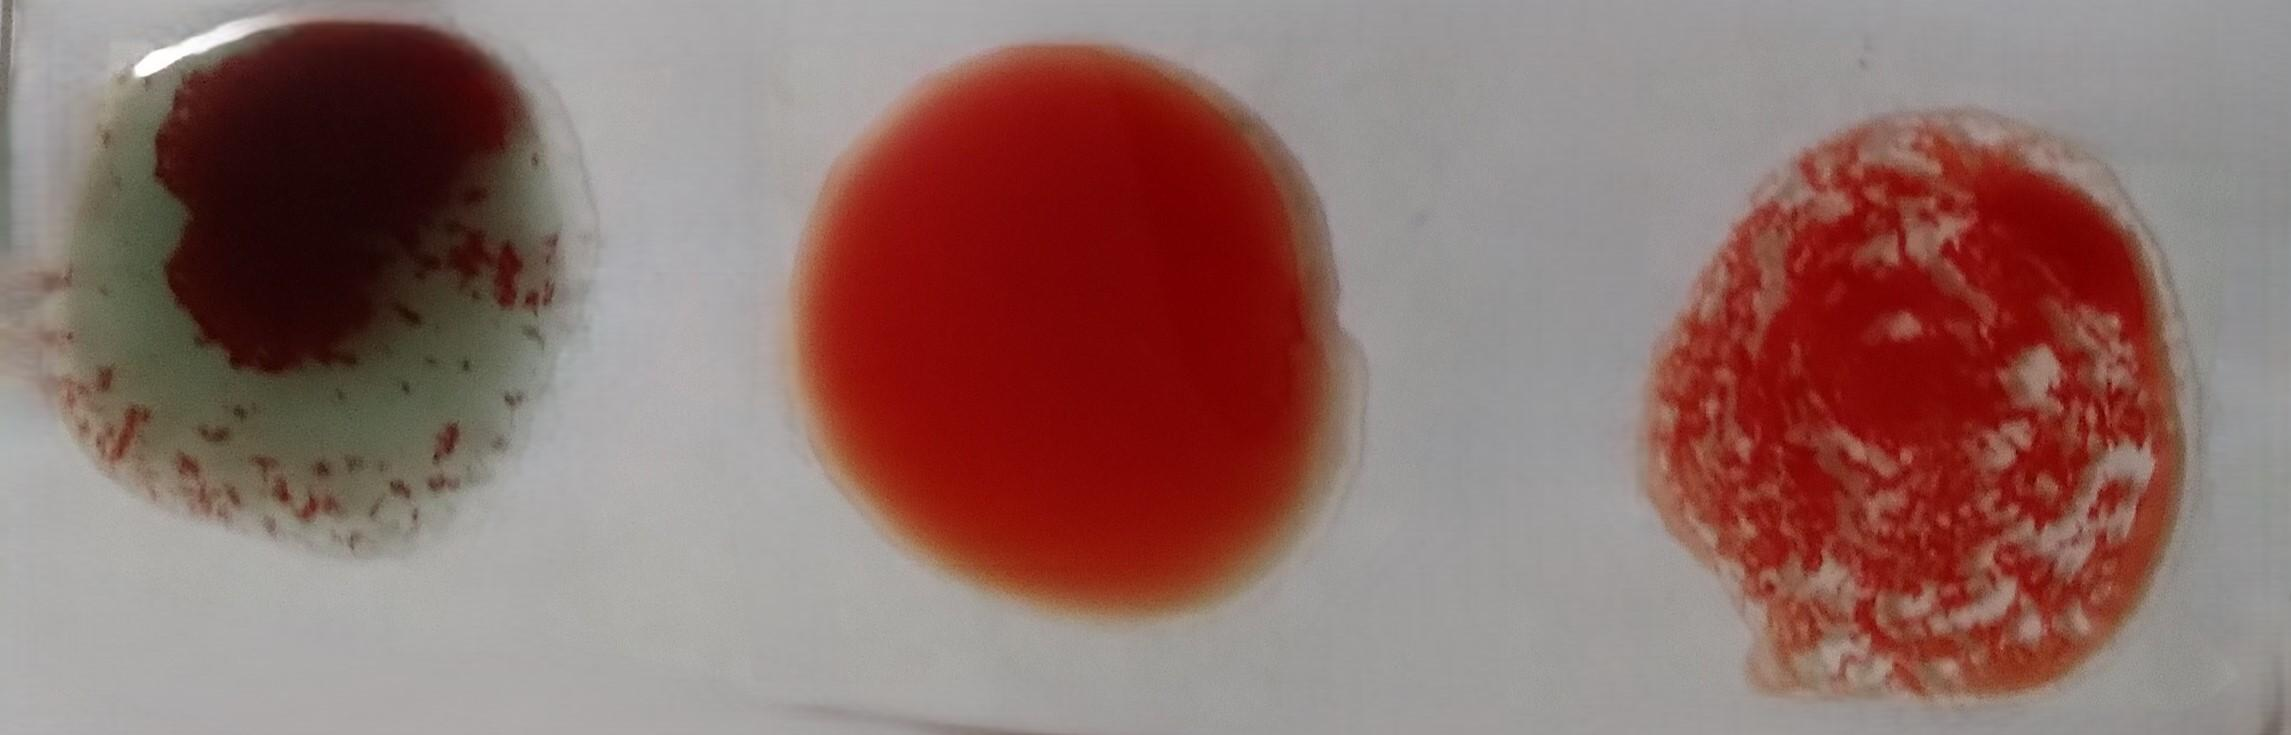A: (69, 7, 570, 538)
D: (1648, 113, 2192, 707)
